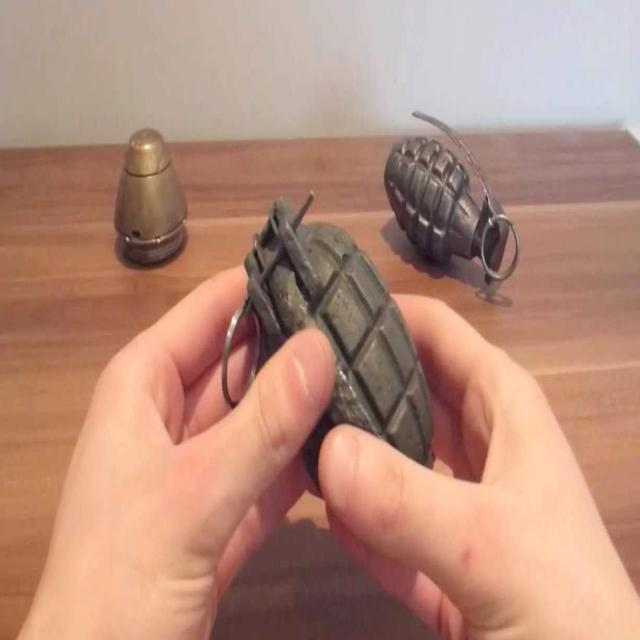grenade: (222, 191, 435, 482), (383, 110, 522, 289)
